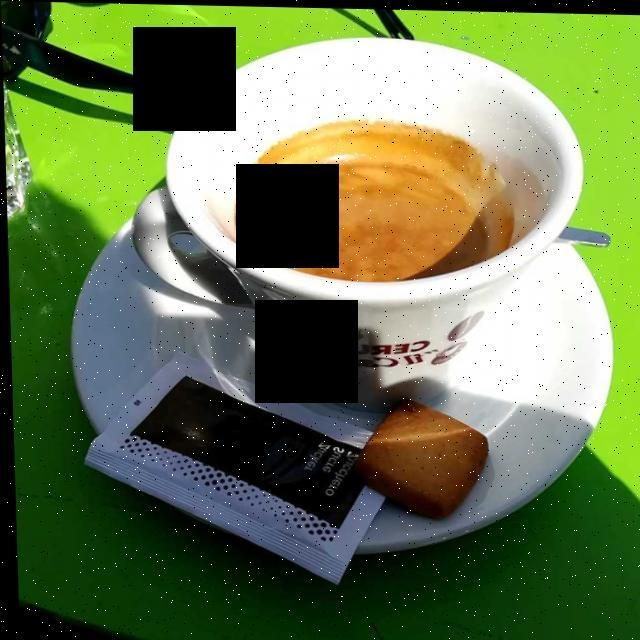biscuits: (360, 402, 484, 513)
espresso: (240, 125, 518, 273)
